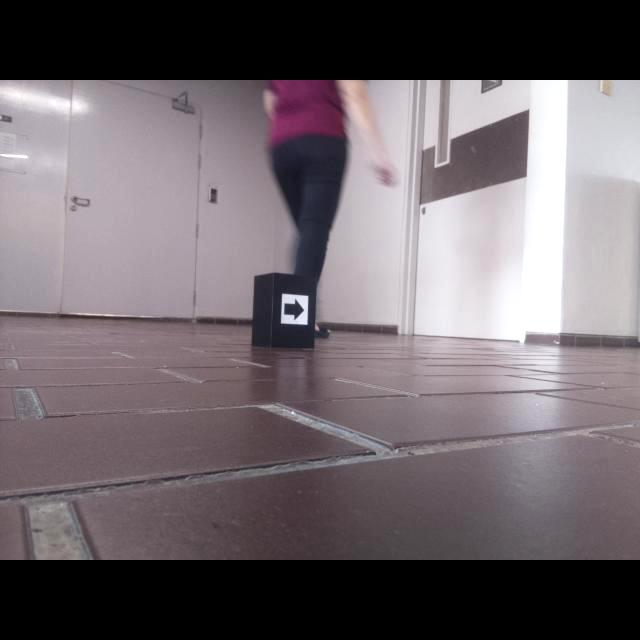RIGHT: (284, 298, 305, 322)
